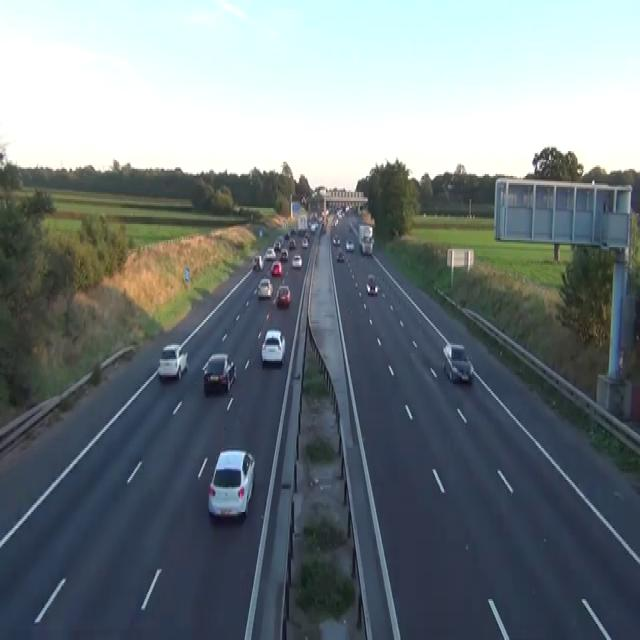Car: (207, 448, 255, 519), (202, 352, 236, 393), (442, 341, 474, 384), (157, 343, 188, 381), (260, 329, 285, 364), (275, 284, 291, 306), (257, 277, 272, 299), (366, 274, 378, 295), (360, 237, 373, 254), (270, 260, 282, 276), (291, 252, 302, 268), (252, 254, 263, 270), (264, 247, 276, 260), (345, 238, 354, 251), (280, 247, 288, 260), (336, 249, 344, 261), (332, 233, 340, 245), (310, 220, 317, 233), (288, 238, 296, 249), (273, 240, 280, 251), (301, 237, 308, 247), (304, 229, 310, 240), (336, 208, 343, 217), (446, 182, 453, 190), (321, 222, 326, 233), (284, 231, 290, 240), (300, 196, 306, 204), (333, 217, 338, 226), (290, 228, 296, 235), (259, 230, 262, 237)
Truck: (358, 222, 374, 254), (297, 213, 307, 233)
